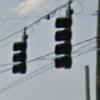traffic lights: (54, 9, 72, 72), (11, 36, 29, 76)
